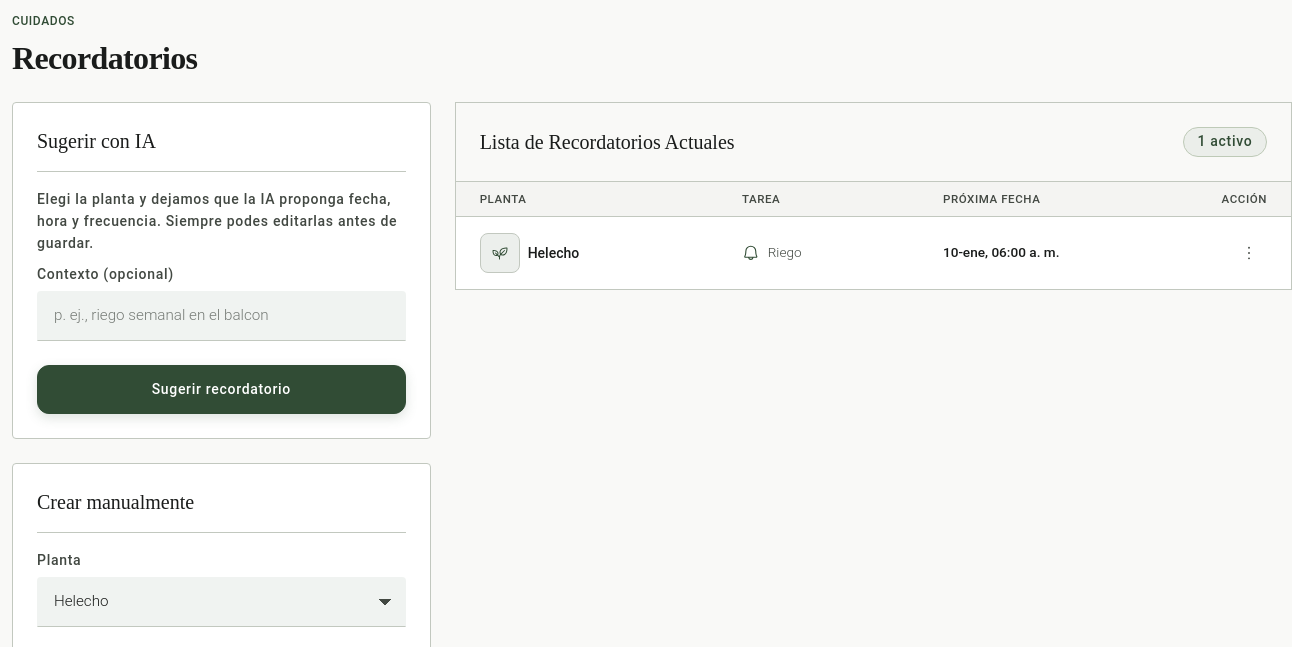
it: RemindersManager › renders a clarification outcome with the missing fields
Step 1. Click the button "Sugerir recordatorio" → (221, 389), box [37,365,406,414]
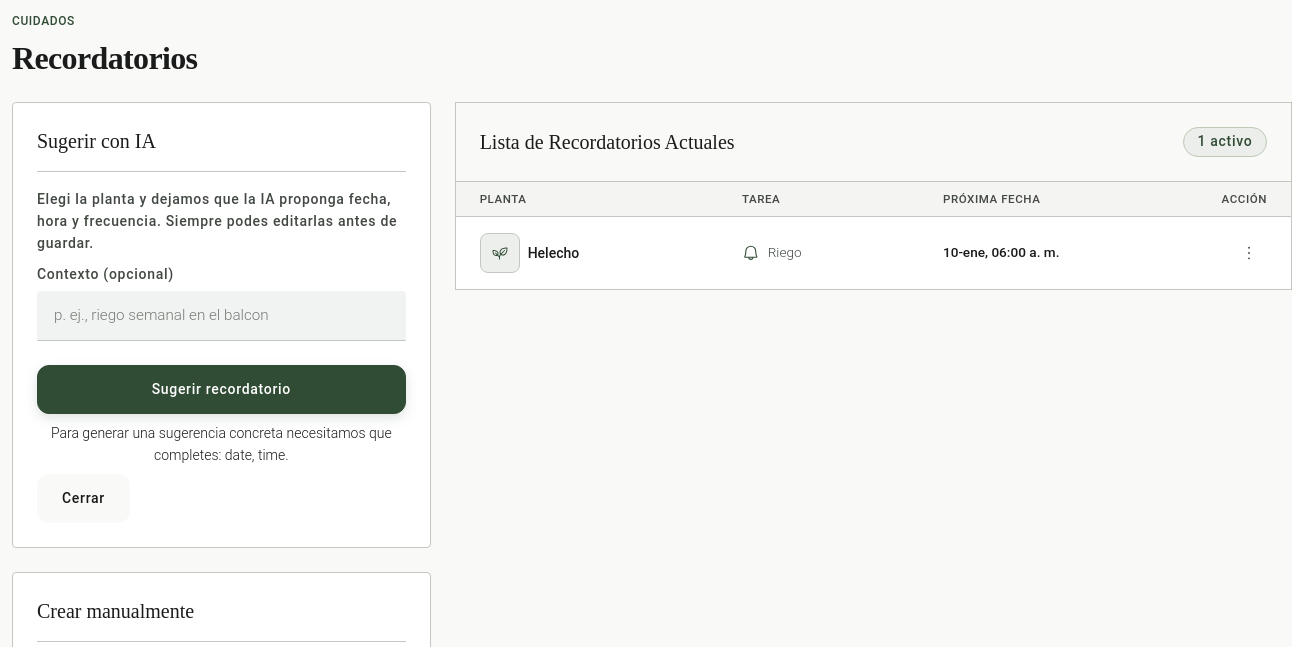
Result: the text "necesitamos que completes:" is shown at [51,425,392,463]
Result: the text "date, time" is shown at [225,447,285,463]
